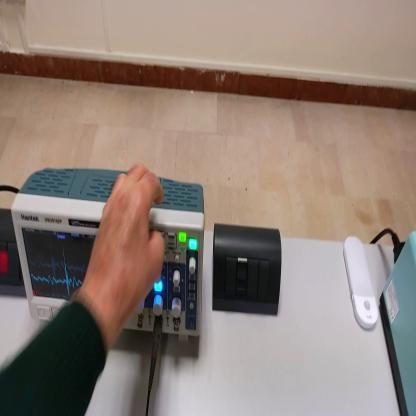hand: (88, 162, 168, 325)
oscilloscope: (10, 165, 205, 341)
socket: (1, 208, 28, 295)
welder station: (382, 230, 416, 416)
